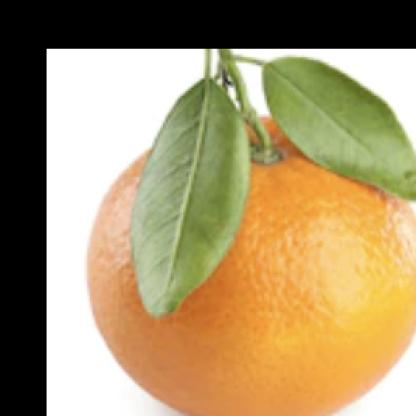fresh: (91, 85, 416, 416)
